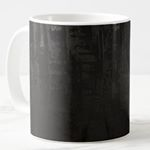cups: (3, 9, 137, 145)
